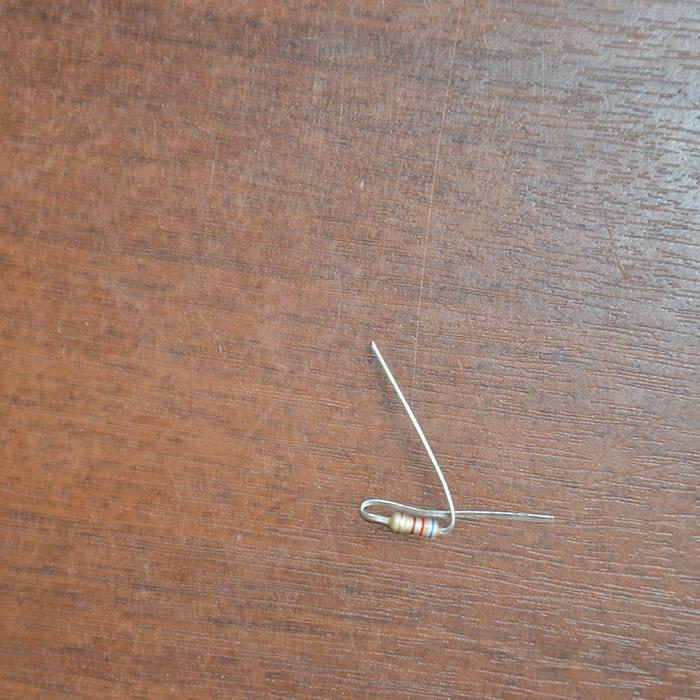resistor: (386, 509, 436, 538)
